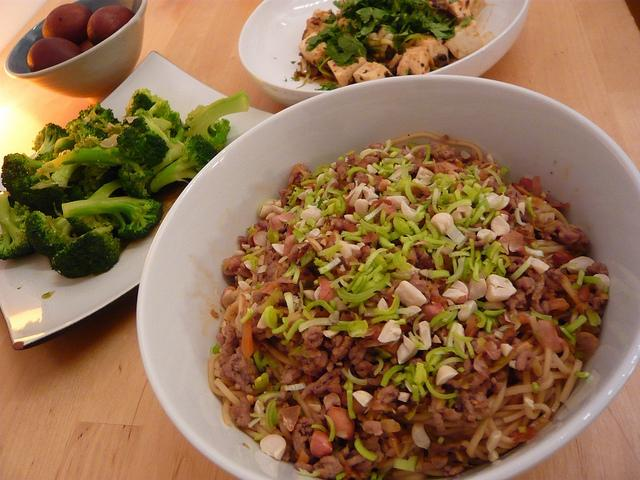broccoli: (34, 117, 170, 199), (61, 178, 162, 242), (181, 90, 250, 172), (51, 225, 121, 277), (134, 108, 184, 174), (0, 191, 36, 260), (26, 211, 78, 257), (8, 180, 70, 218), (1, 152, 43, 194), (63, 167, 109, 200), (32, 123, 70, 160), (128, 88, 172, 118), (76, 102, 115, 134), (54, 118, 84, 154), (52, 163, 82, 188)
